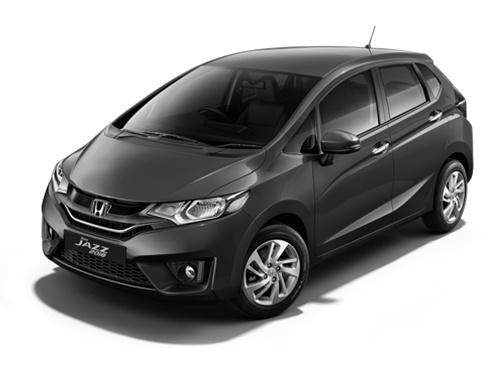Car hood: (57, 122, 271, 210)
Fender - -F-L-: (248, 136, 300, 241)
Fender - -R-L-: (422, 87, 476, 183)
Front bumper: (29, 185, 260, 312)
Headlight - -L-: (142, 187, 257, 230)
Headlight - -R-: (48, 153, 73, 203)
Passenger-s door - -F-L-: (312, 59, 396, 256)
Passenger-s door - -R-L-: (371, 56, 452, 226)
Side bumper - -L-: (306, 203, 438, 270)
Side mirror - -L-: (319, 125, 363, 158)
